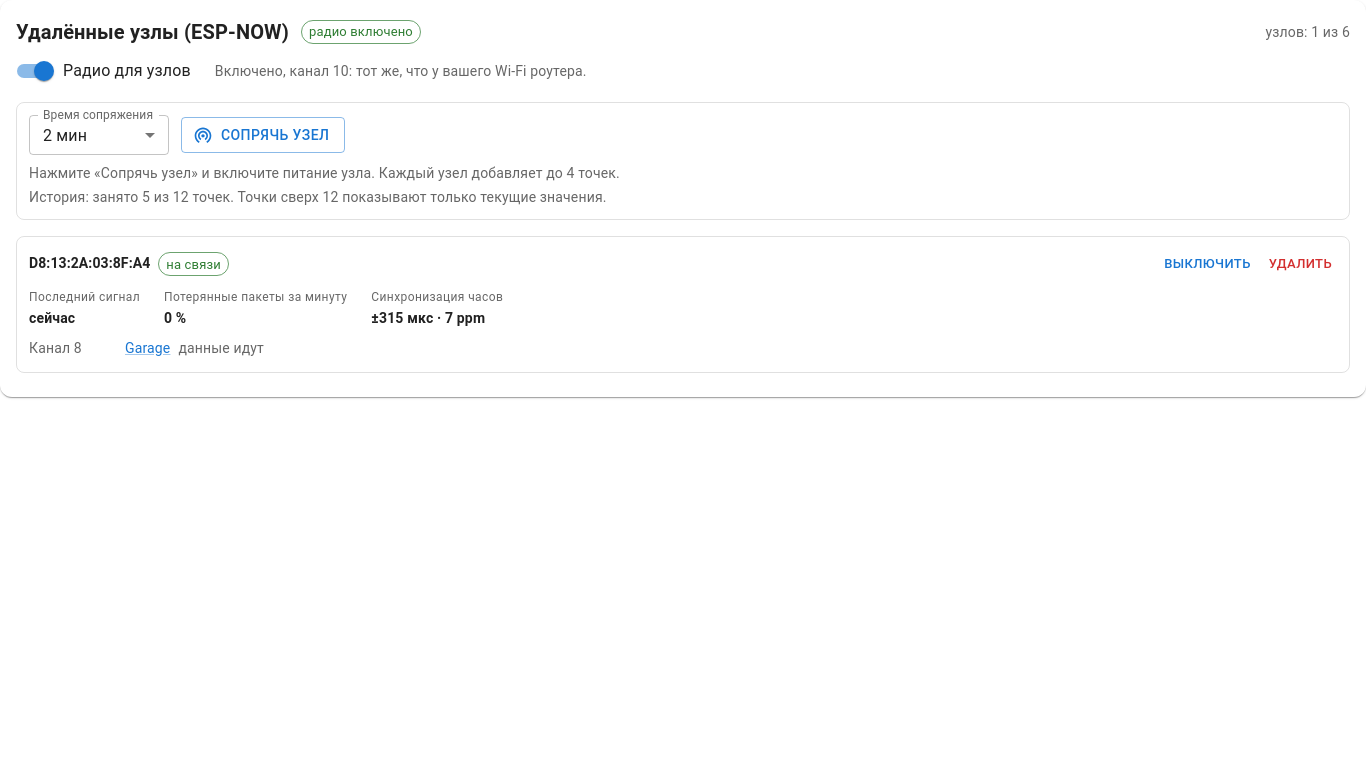
Test case: NodesPanel (fw 1.1.7, root espnow-nodes-ui) › remove asks first (history goes too), then sends the mac
Click the button "Удалить".
click(1300, 264)  # box [1264,249,1337,280]
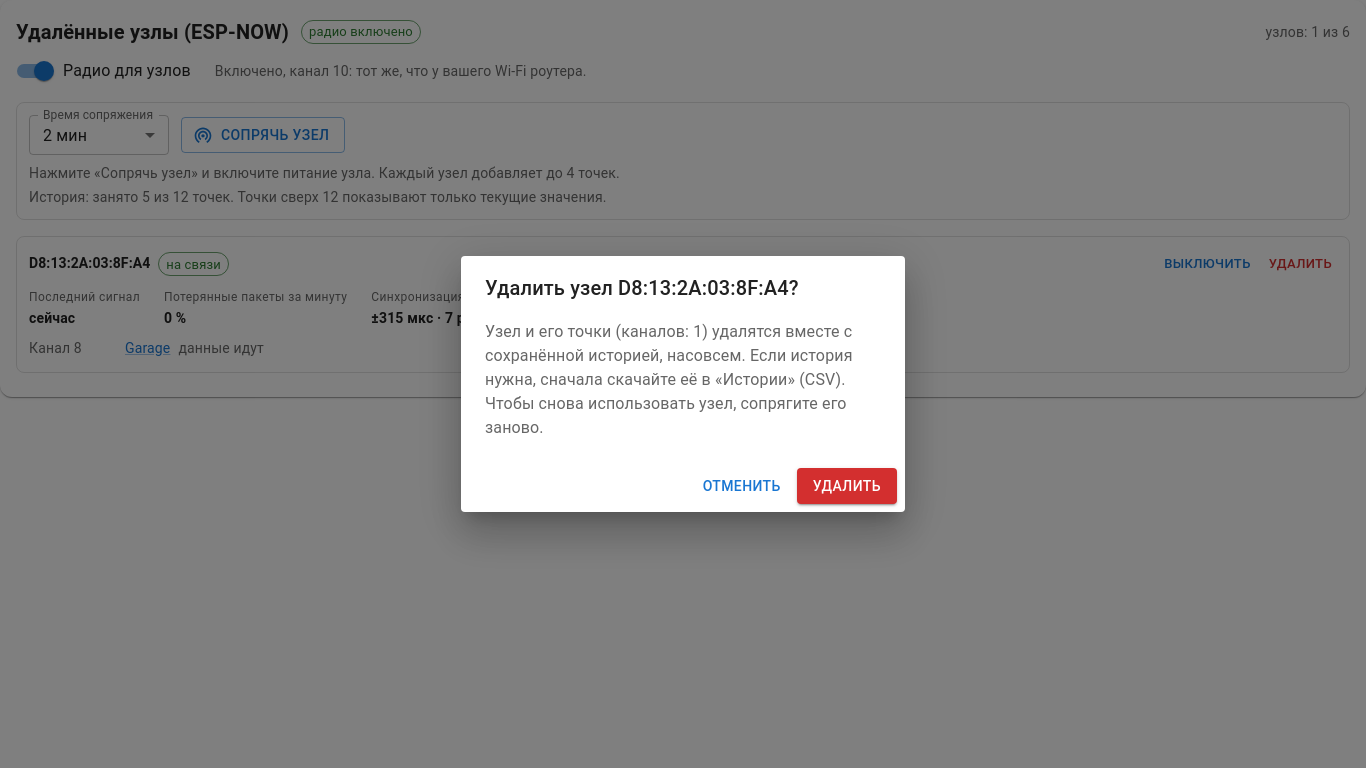
Click the button "Удалить".
click(847, 486)  # box [797,468,897,504]
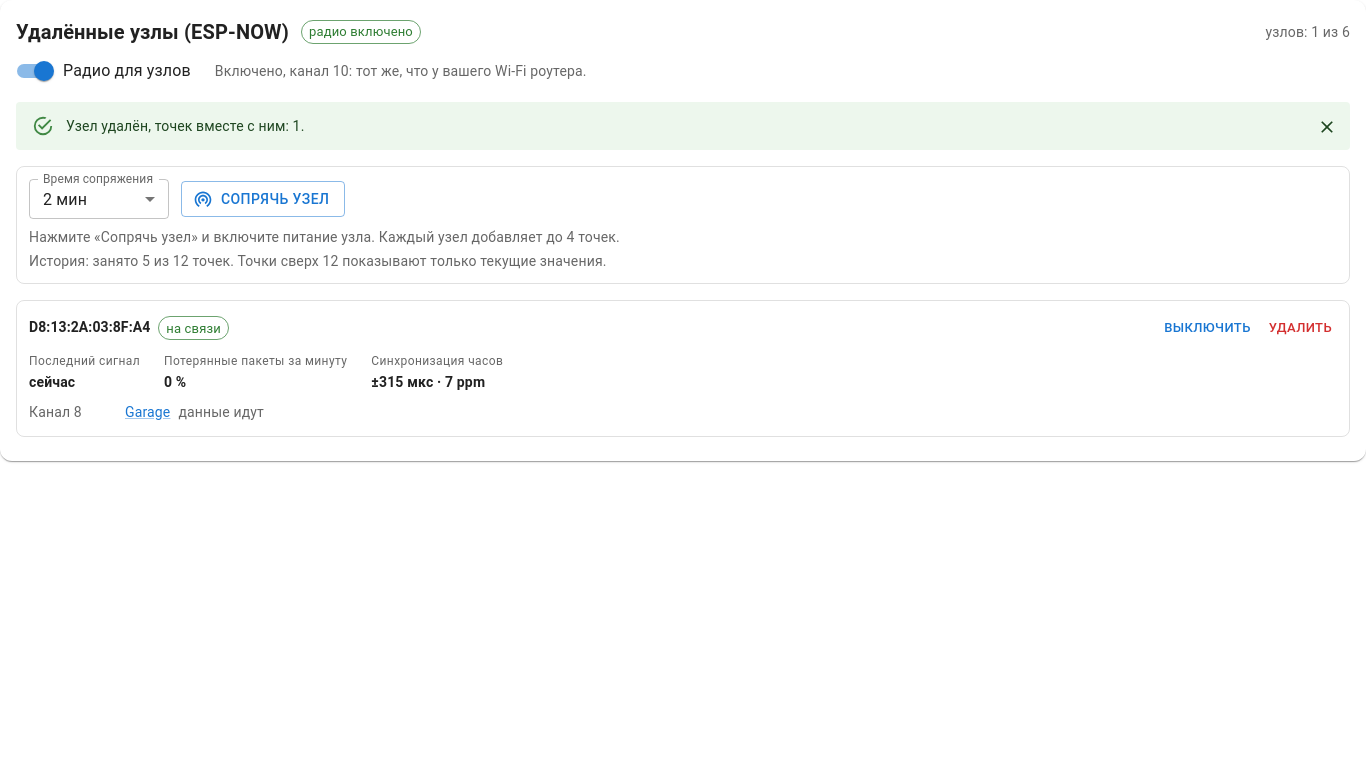
Now the text "Узел удалён, точек вместе с ним: 1." is shown, box [66,118,304,134]
